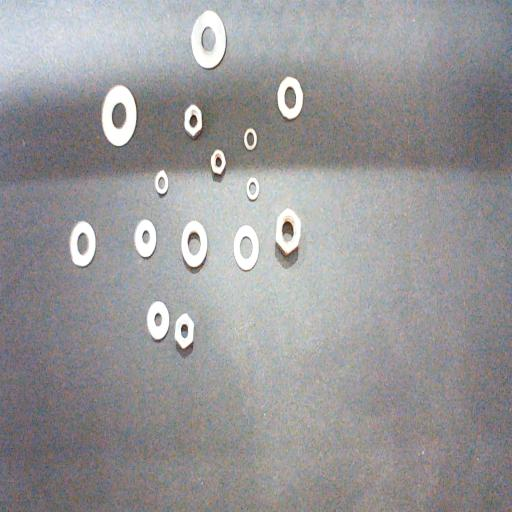nut: (276, 208, 301, 256), (174, 313, 194, 350), (184, 104, 202, 138), (210, 149, 226, 176)
washer: (101, 85, 137, 146), (190, 10, 227, 69), (68, 220, 96, 268), (181, 220, 207, 268), (234, 224, 259, 271), (277, 76, 303, 120), (146, 301, 170, 340), (134, 218, 157, 258), (154, 170, 168, 195), (246, 177, 259, 200), (244, 128, 257, 150)
